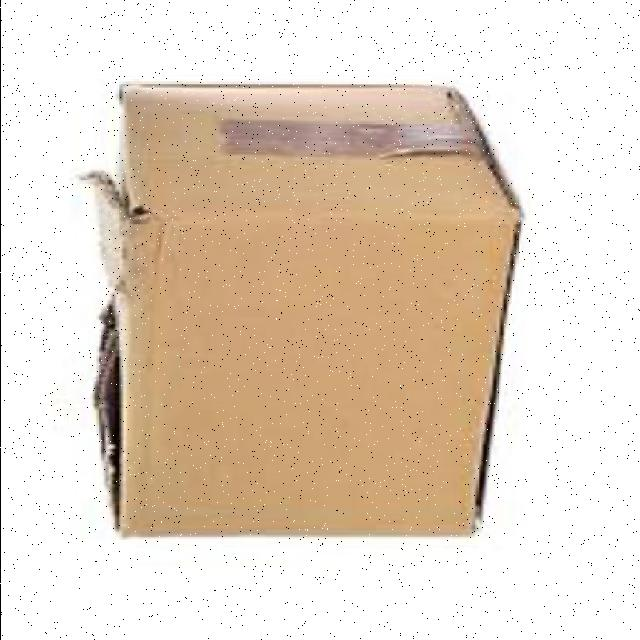defect: (68, 78, 529, 544)
